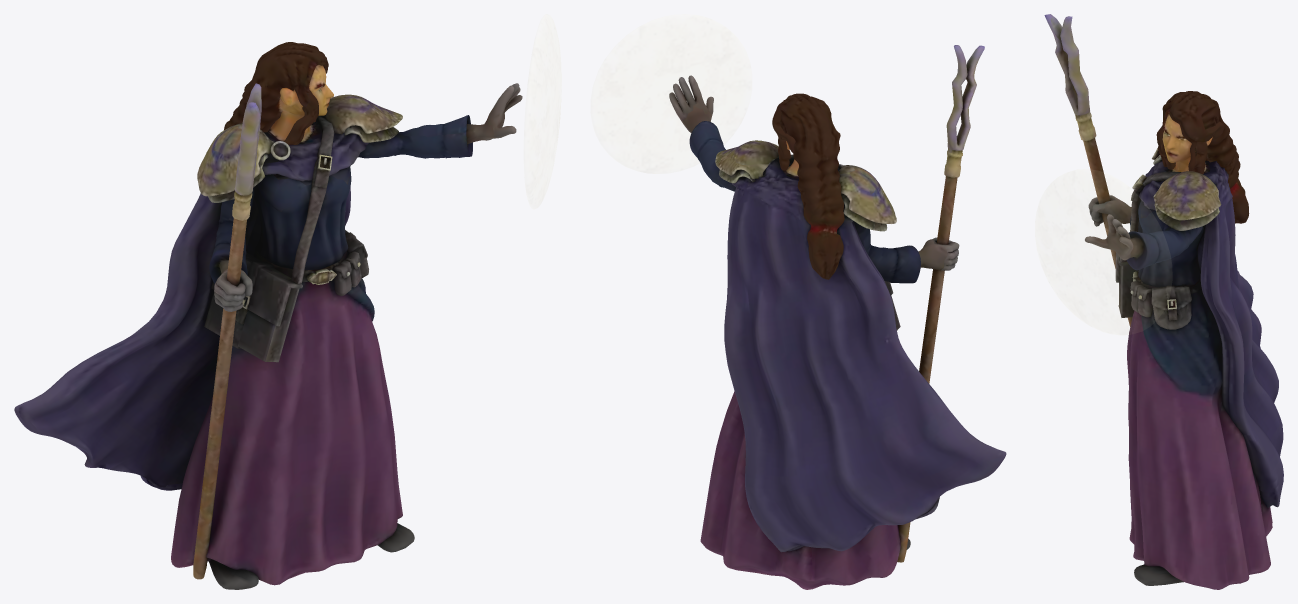
Rendered from MZ4250 - Human Female Abjuration Wizard with Shield spell_3.glb.
3 renders of one model, left to right at view 1: azimuth 30°, elevation 25°; view 2: azimuth 150°, elevation 25°; view 3: azimuth 270°, elevation 25°, orthographic. The views are drawn at different scales.
Parts seen in each view (by area): view 1: HFA_3; view 2: HFA_3; view 3: HFA_3.
Part boxes in pixels (<box>): HFA_3: <box>14,42,522,589</box>; HFA_3: <box>669,45,1006,589</box>; HFA_3: <box>1044,14,1283,589</box>.
Size of the model in its own units: 2103 by 2221 by 998.
2 materials, 2 textured.
